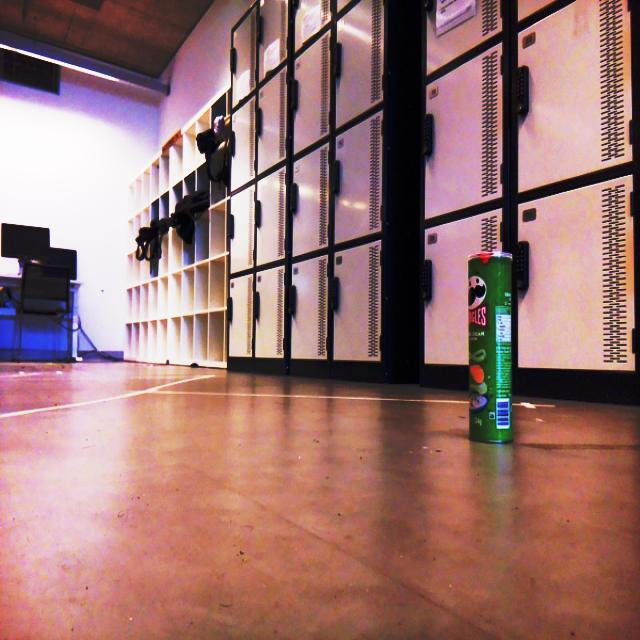greenpringles: (441, 235, 536, 474)
